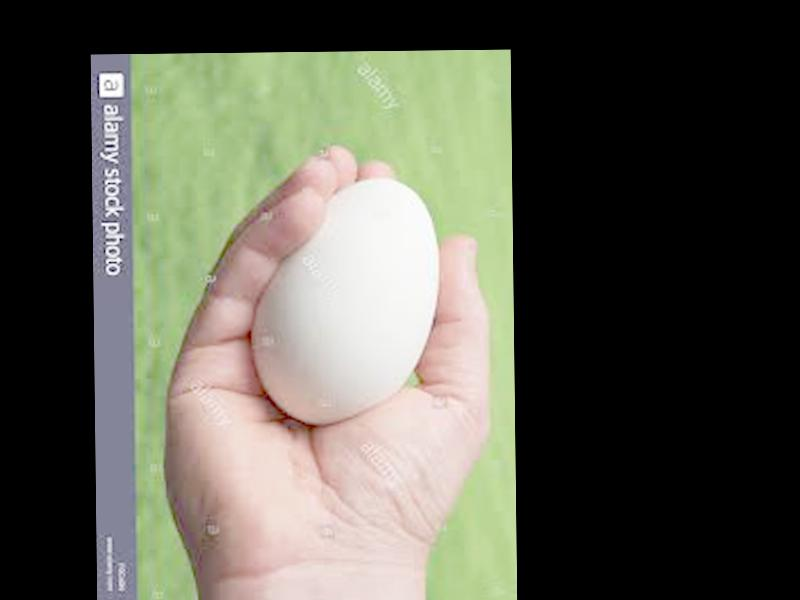Eggs: (249, 178, 442, 429)
